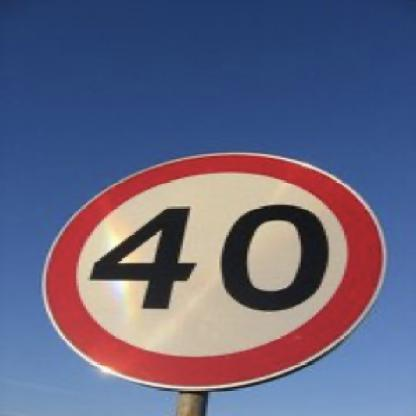speedlimit: (36, 151, 388, 391)
